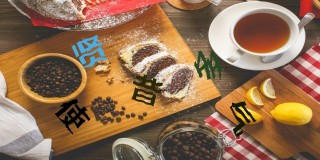使: (55, 99, 90, 135)
多: (194, 50, 222, 80)
昔: (130, 74, 163, 106)
气: (230, 101, 256, 137)
贤: (72, 35, 108, 69)
